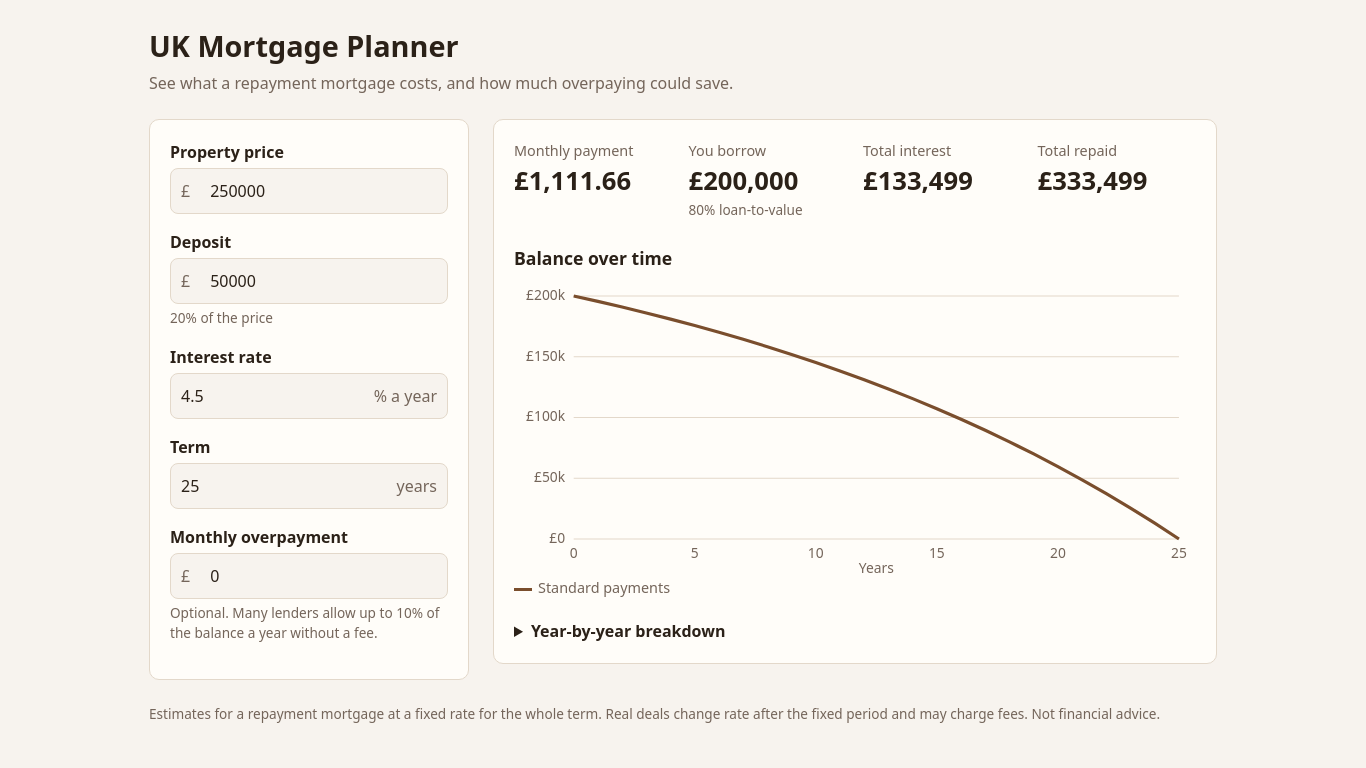
Test: App › explains what overpaying saves
Expected: the element named "Results" does not show "Overpaying clears", [493,119,1217,664]
Replace the text in the number field labelled "Monthly overpayment" with "200" at (324, 576), box [200,554,447,598]
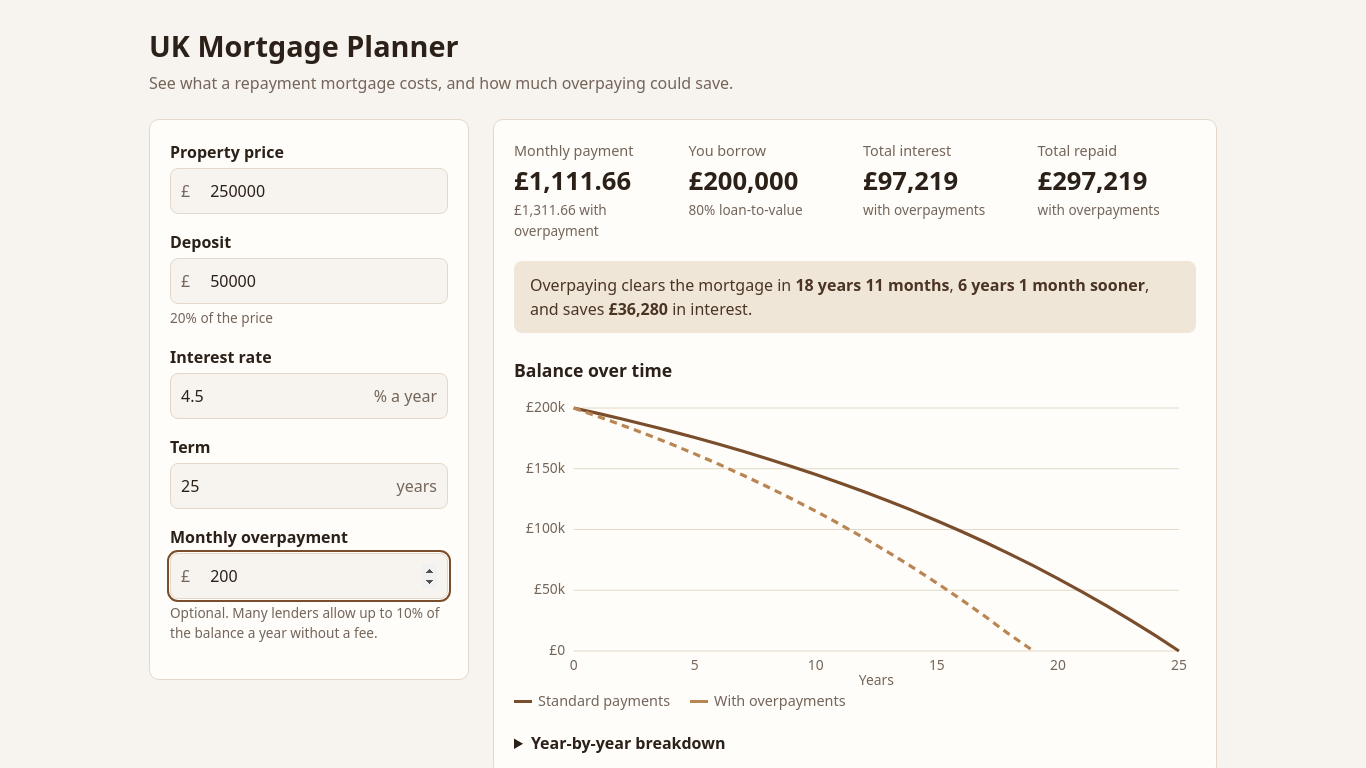
Now the text "With overpayments" is shown, box [714,691,846,710]
